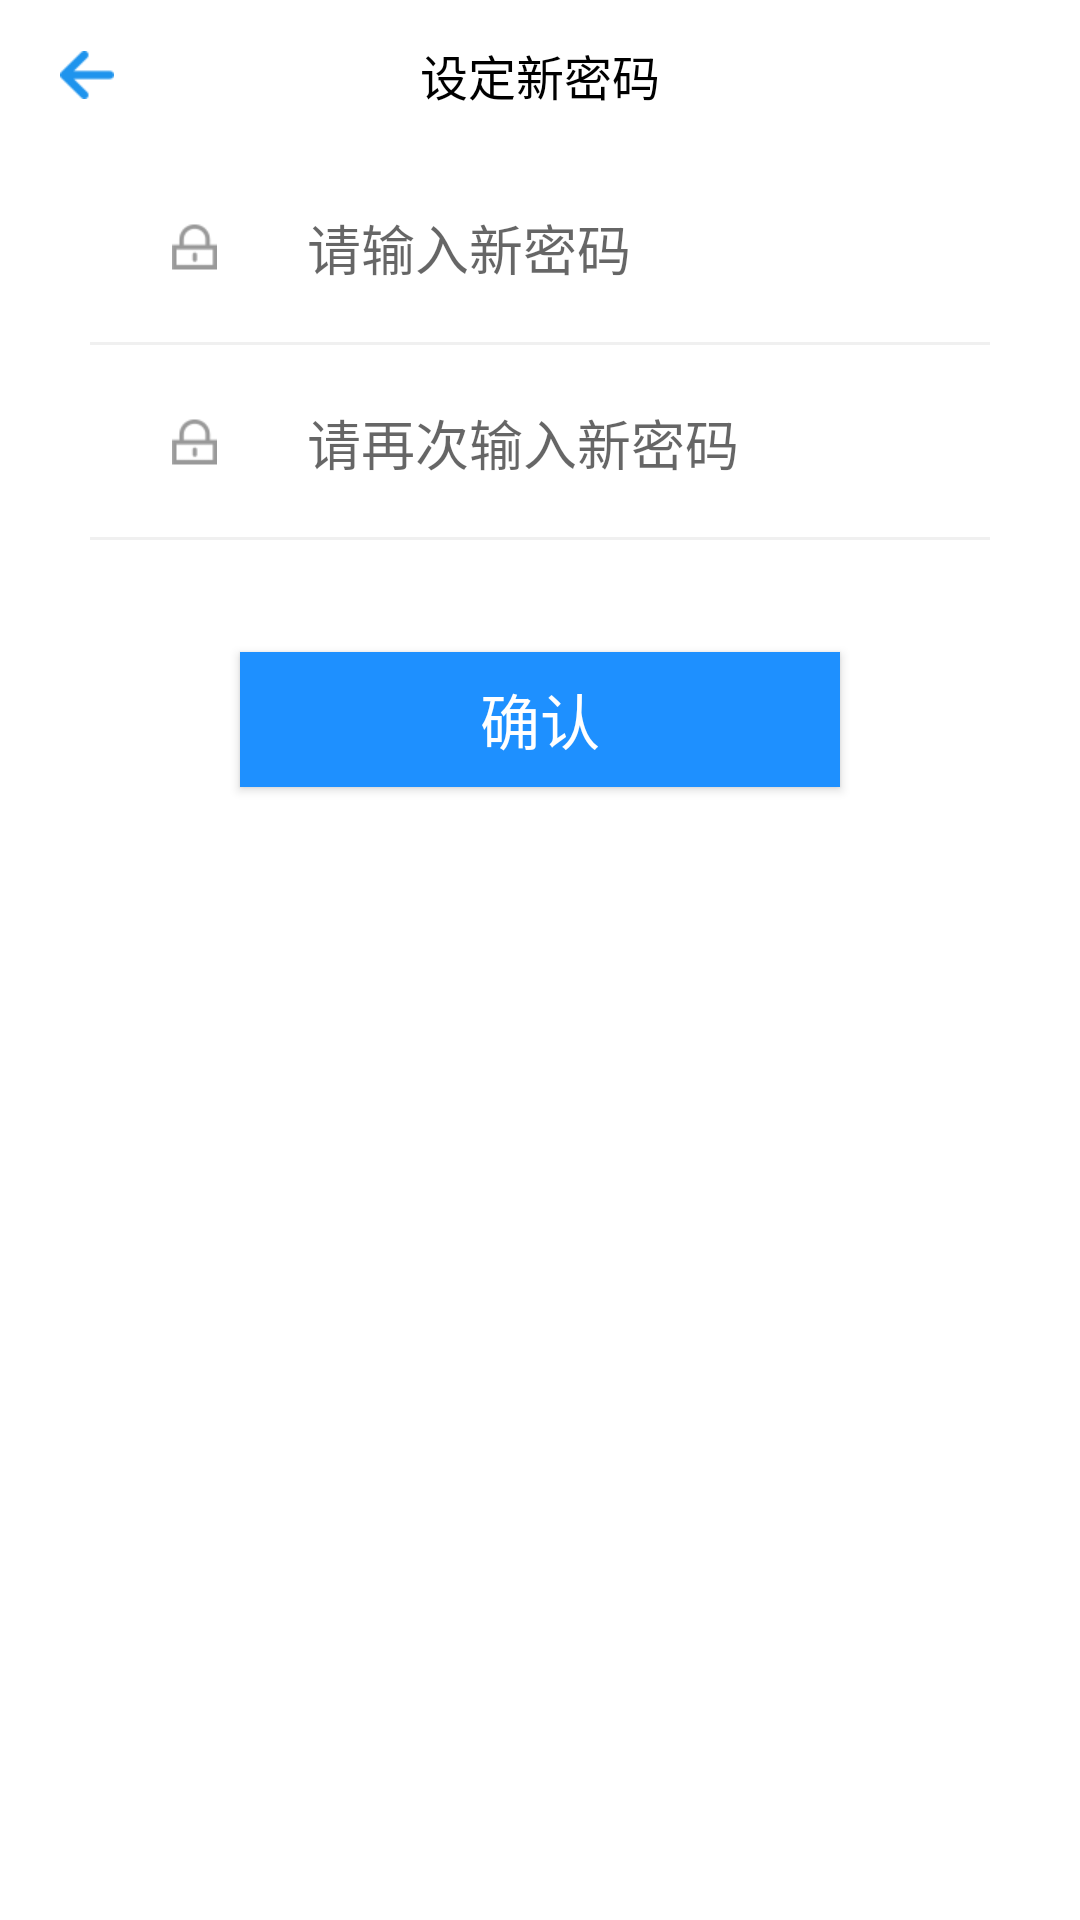

Locate icon controls on the screen. Image size 1080*1920, boxes as (x1, y1, x2, y2).
back: (60, 51, 114, 99)
